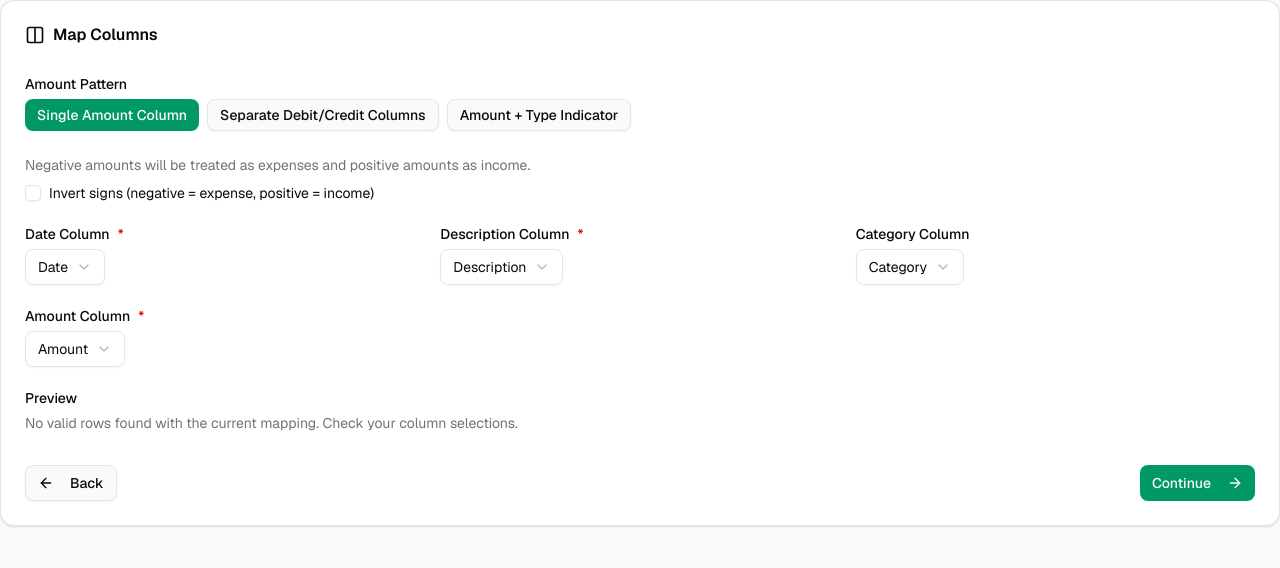
Test case: ColumnMapper › shows indicator column and debit values input for indicator pattern
This screenshot has width=1280, height=568.
Click the button "Amount + Type Indicator": (539, 115) [447,99,631,131]
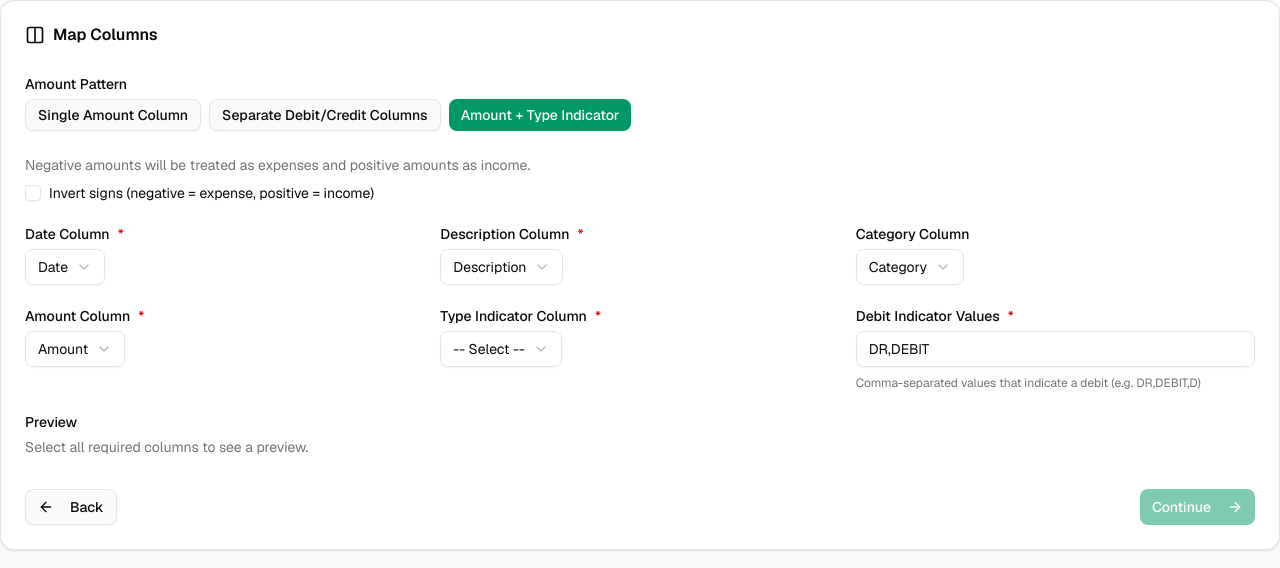
Check: the text "Type Indicator Column" is shown, box [440,307,587,325]
Check: the text "Debit Indicator Values *" is shown, box [856,307,1014,325]
Check: the field with id "debit-values" is shown, box [856,331,1255,367]
